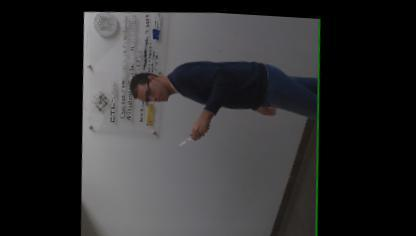knife: (176, 120, 212, 144)
